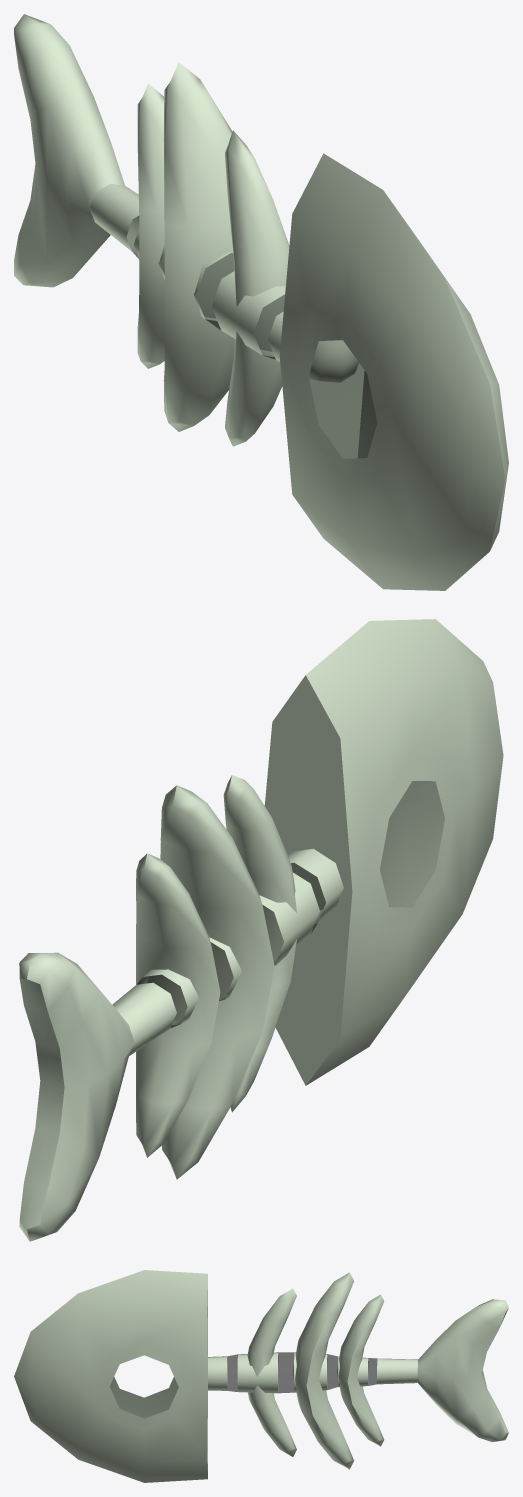
File: fish-bone.fbx
3 views of the same model, one above another, from view 1: azimuth 30°, elevation 25°; view 2: azimuth 150°, elevation 25°; view 3: azimuth 270°, elevation 25° (orthographic). The views are drawn at different scales.
Visible parts, largest first — view 1: fish_bone; view 2: fish_bone; view 3: fish_bone.
Part boxes in pixels (<box>): fish_bone: <box>14,14,508,590</box>; fish_bone: <box>19,619,503,1241</box>; fish_bone: <box>14,1270,508,1482</box>.
Size of the model in its own units: 7.42 by 25.79 by 54.32.
